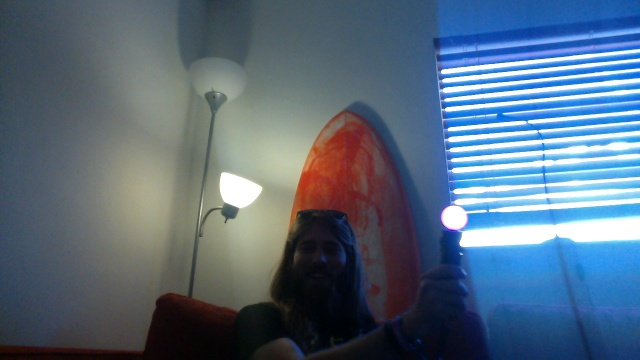wand: (441, 205, 467, 230)
